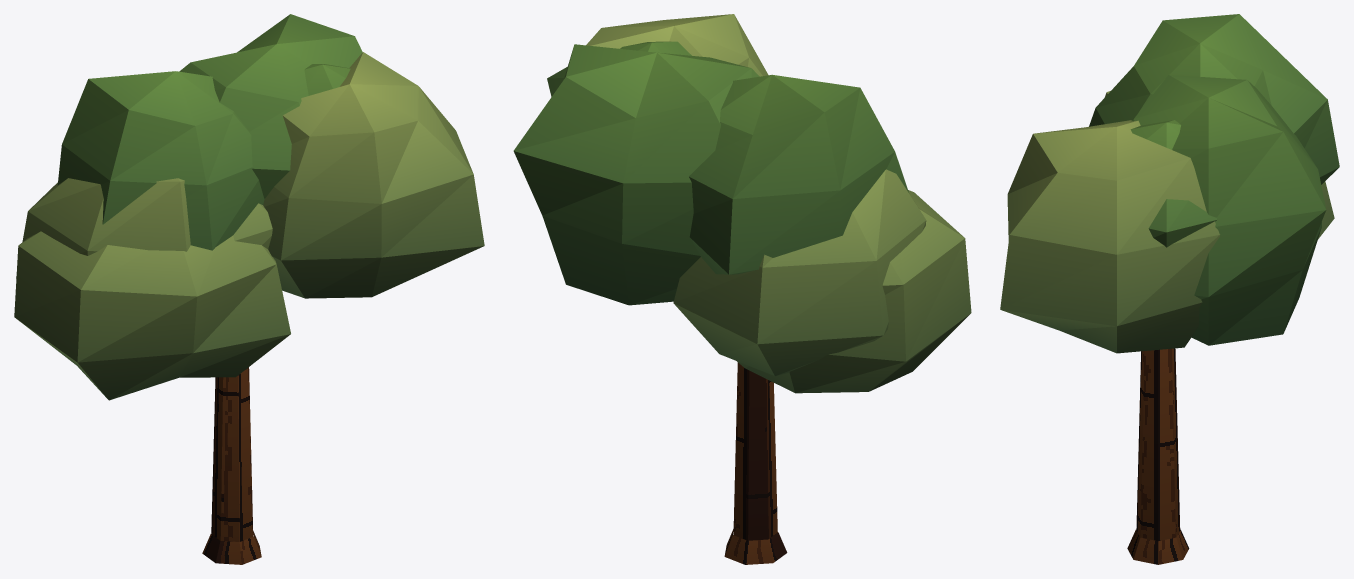
File: oak_1_lowpoly.glb
3 views of the same model, side by side, from view 1: azimuth 30°, elevation 25°; view 2: azimuth 150°, elevation 25°; view 3: azimuth 270°, elevation 25° (orthographic). The views are drawn at different scales.
Visible parts, largest first — view 1: oak_1_lowpoly; view 2: oak_1_lowpoly; view 3: oak_1_lowpoly.
Part boxes in pixels (bbox=[...]): oak_1_lowpoly: bbox=[14, 14, 484, 564]; oak_1_lowpoly: bbox=[513, 14, 971, 564]; oak_1_lowpoly: bbox=[1000, 14, 1339, 564].
Bounding box in the file's own units: 5.31 × 6.12 × 3.85.
2 materials, 1 textured.
